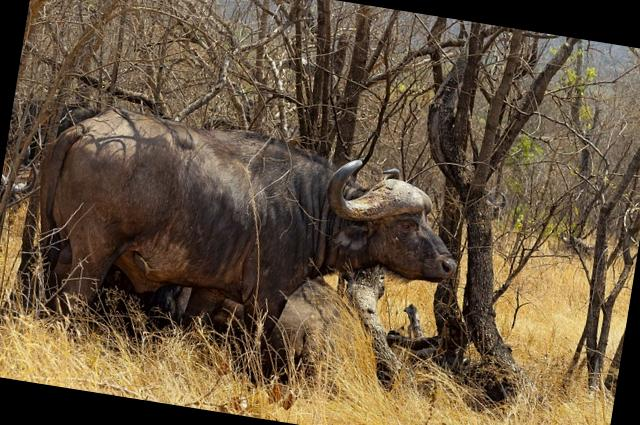Buffalo: (0, 0, 579, 393)
